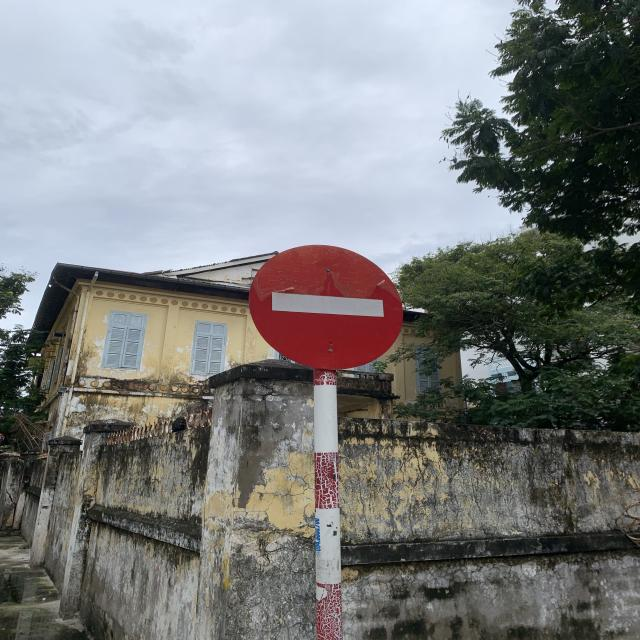Cam_Di_Nguoc_Chieu: (247, 243, 405, 371)
